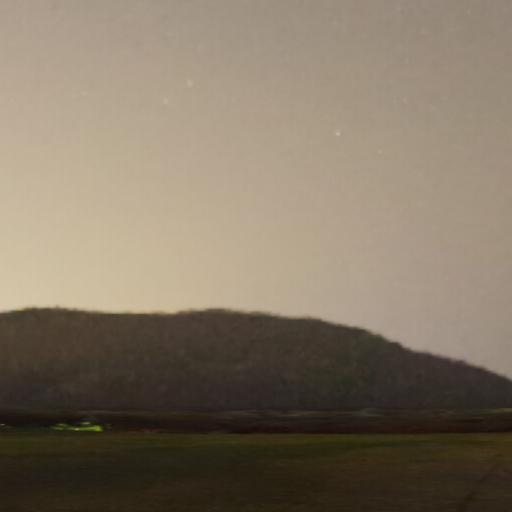nothing: (4, 0, 509, 509)
